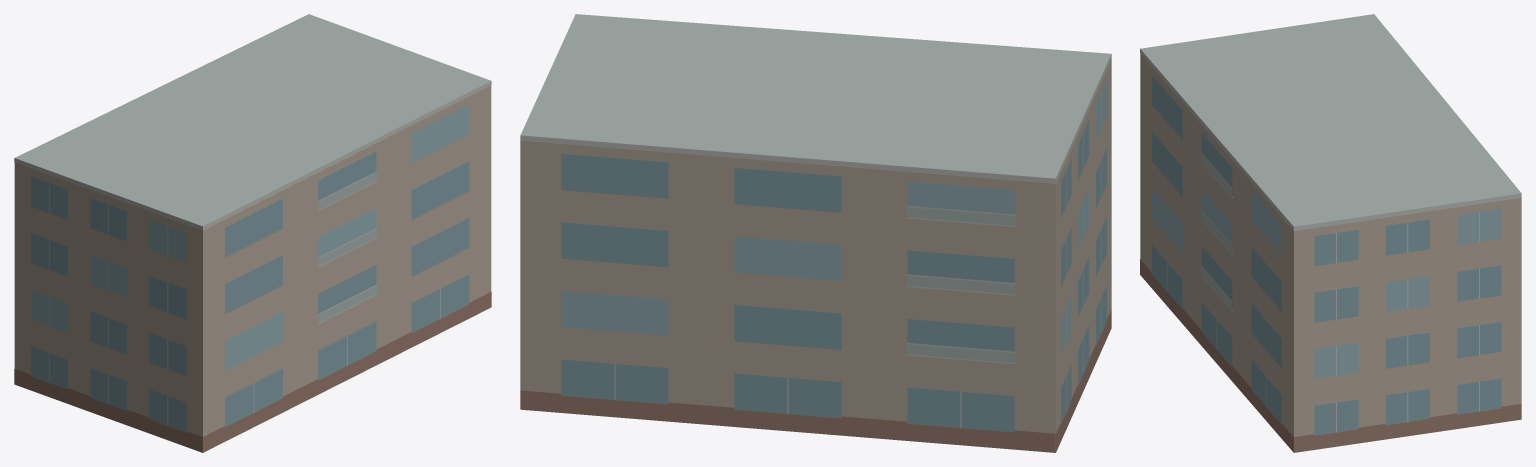
The model's file is survey-upis-32823605.glb.
3 views of the same model, side by side, from view 1: azimuth 30°, elevation 25°; view 2: azimuth 150°, elevation 25°; view 3: azimuth 270°, elevation 25° (orthographic). The views are drawn at different scales.
Parts seen in each view (by area): view 1: survey-upis-32823605.tmp; view 2: survey-upis-32823605.tmp; view 3: survey-upis-32823605.tmp.
Part boxes in pixels (bbox=[...]): survey-upis-32823605.tmp: bbox=[14, 14, 491, 452]; survey-upis-32823605.tmp: bbox=[520, 14, 1111, 452]; survey-upis-32823605.tmp: bbox=[1140, 14, 1521, 452].
Size of the model in its own units: 25.44 by 12.6 by 19.28.
